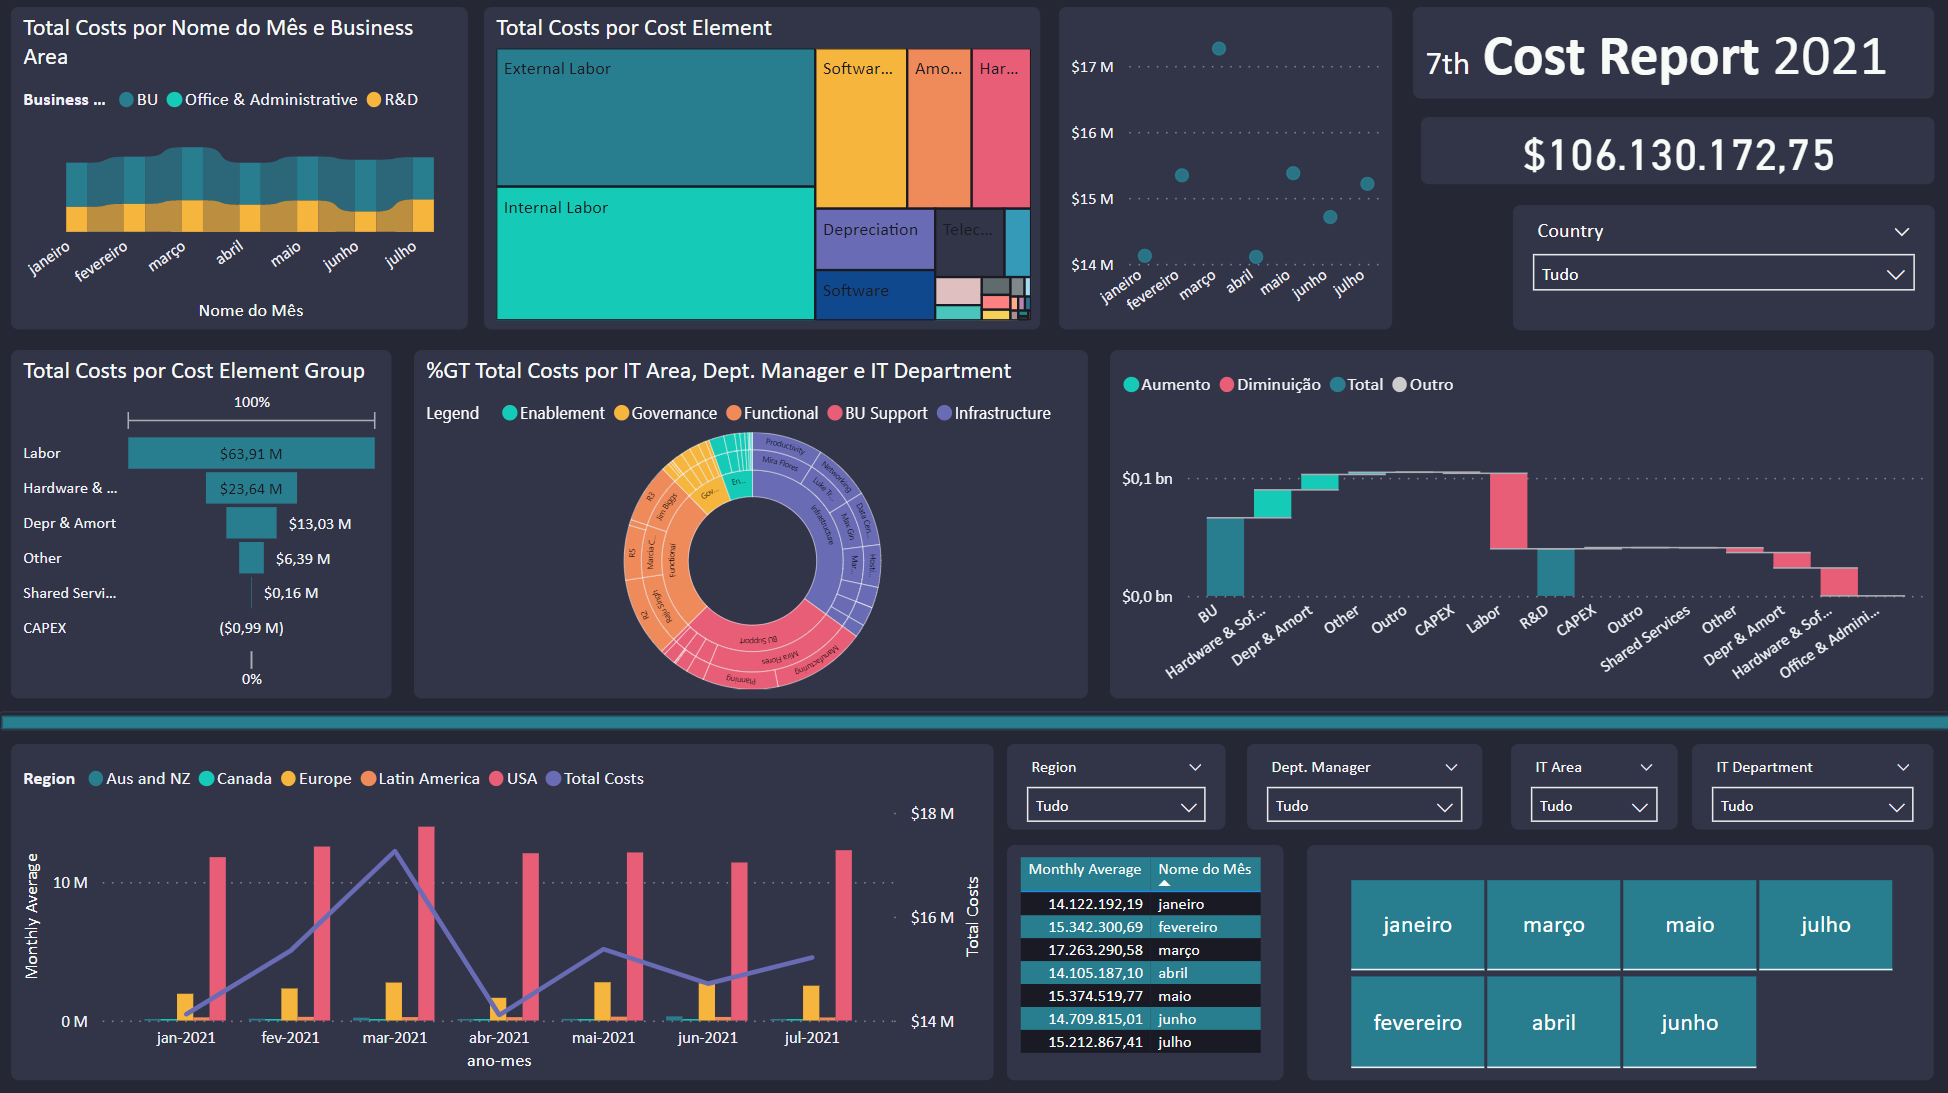

The dashboard page shown, as its layout file describes it:
{"tool":"powerbi","page":{"name":"Página 1","canvas":[1280,720],"ordinal":0},"visuals":[{"type":"lineClusteredColumnComboChart","fields":{"Y":["_med.Monthly Average"],"Category":["Calendar.Intercalado"],"Y2":["_med.Total Costs"],"Series":["Regions.Region"]},"box":[9.2,489.5,642.6,219.9],"z":0},{"type":"tableEx","fields":{"Values":["_med.Monthly Average","Calendar.Nome do Mês"]},"box":[660.9,555.6,180.6,153.8],"z":1000},{"type":"textbox","box":[926.6,7.2,340.9,60.2],"z":2000},{"type":"funnel","fields":{"Category":["CostElements.Cost Element Group"],"Y":["_med.Total Costs"]},"box":[9.2,231.7,249.3,227.7],"z":3000},{"type":"shape","box":[0,467.9,1280,13.1],"z":4000},{"type":"card","fields":{"Values":["_med.Total Costs"]},"box":[931.9,79.2,335.7,44.5],"z":5000},{"type":"Sunburst1445472000808","fields":{"Values":["_med.Total Costs"],"Nodes":["Departments.IT Area","Departments.Dept. Manager","Departments.IT Department"]},"box":[272.9,231.7,441.1,227.7],"z":6000},{"type":"slicer","fields":{"Values":["Departments.IT Department"]},"box":[1114.4,489.5,153.1,55.6],"z":7000},{"type":"slicer","fields":{"Values":["Departments.IT Area"]},"box":[988.8,489.5,108.6,55.6],"z":8000},{"type":"slicer","fields":{"Values":["Departments.Dept. Manager"]},"box":[820,489.5,153.8,55.6],"z":9000},{"type":"slicer","fields":{"Values":["Regions.Region"]},"box":[660.9,489.5,143.3,55.6],"z":10000},{"type":"slicer","fields":{"Values":["Calendar.Nome do Mês"]},"box":[857.3,555.6,410.3,153.8],"z":11000},{"type":"scatterChart","fields":{"Y":["_med.Total Costs"],"X":["Calendar.Nome do Mês"]},"box":[695,7.2,217.9,211.4],"z":12000},{"type":"treemap","fields":{"Values":["_med.Total Costs"],"Group":["CostElements.Cost Element"]},"box":[318.7,7.2,363.8,211.4],"z":13000},{"type":"ribbonChart","fields":{"Category":["Calendar.Nome do Mês"],"Y":["_med.Total Costs"],"Series":["CostElements.Business Area"]},"box":[9.2,7.2,299.1,211.4],"z":14000},{"type":"waterfallChart","fields":{"Y":["_med.Total Costs"],"Category":["CostElements.Business Area"],"Breakdown":["CostElements.Cost Element Group"]},"box":[728.3,231.7,539.2,227.7],"z":15000},{"type":"slicer","fields":{"Values":["Regions.Country"]},"box":[992.1,136.8,275.5,81.8],"z":16000}]}

Visuals, with their boxes in screenshot pixels (x1, y1, x2, y2), scaled from the page's 1280x720 canvas onto the 1948x1093 screenshot:
lineClusteredColumnComboChart - _med.Monthly Average x Calendar.Intercalado: rect(14, 743, 992, 1077)
tableEx - _med.Monthly Average x Calendar.Nome do Mês: rect(1006, 843, 1281, 1077)
textbox: rect(1410, 11, 1929, 102)
funnel - CostElements.Cost Element Group x _med.Total Costs: rect(14, 352, 393, 697)
shape: rect(0, 710, 1947, 730)
card - _med.Total Costs: rect(1418, 120, 1929, 188)
Sunburst1445472000808 - _med.Total Costs x Departments.IT Area: rect(415, 352, 1087, 697)
slicer - Departments.IT Department: rect(1696, 743, 1929, 827)
slicer - Departments.IT Area: rect(1505, 743, 1670, 827)
slicer - Departments.Dept. Manager: rect(1248, 743, 1482, 827)
slicer - Regions.Region: rect(1006, 743, 1224, 827)
slicer - Calendar.Nome do Mês: rect(1305, 843, 1929, 1077)
scatterChart - _med.Total Costs x Calendar.Nome do Mês: rect(1058, 11, 1389, 332)
treemap - _med.Total Costs x CostElements.Cost Element: rect(485, 11, 1039, 332)
ribbonChart - Calendar.Nome do Mês x _med.Total Costs: rect(14, 11, 469, 332)
waterfallChart - _med.Total Costs x CostElements.Business Area: rect(1108, 352, 1929, 697)
slicer - Regions.Country: rect(1510, 208, 1929, 332)
